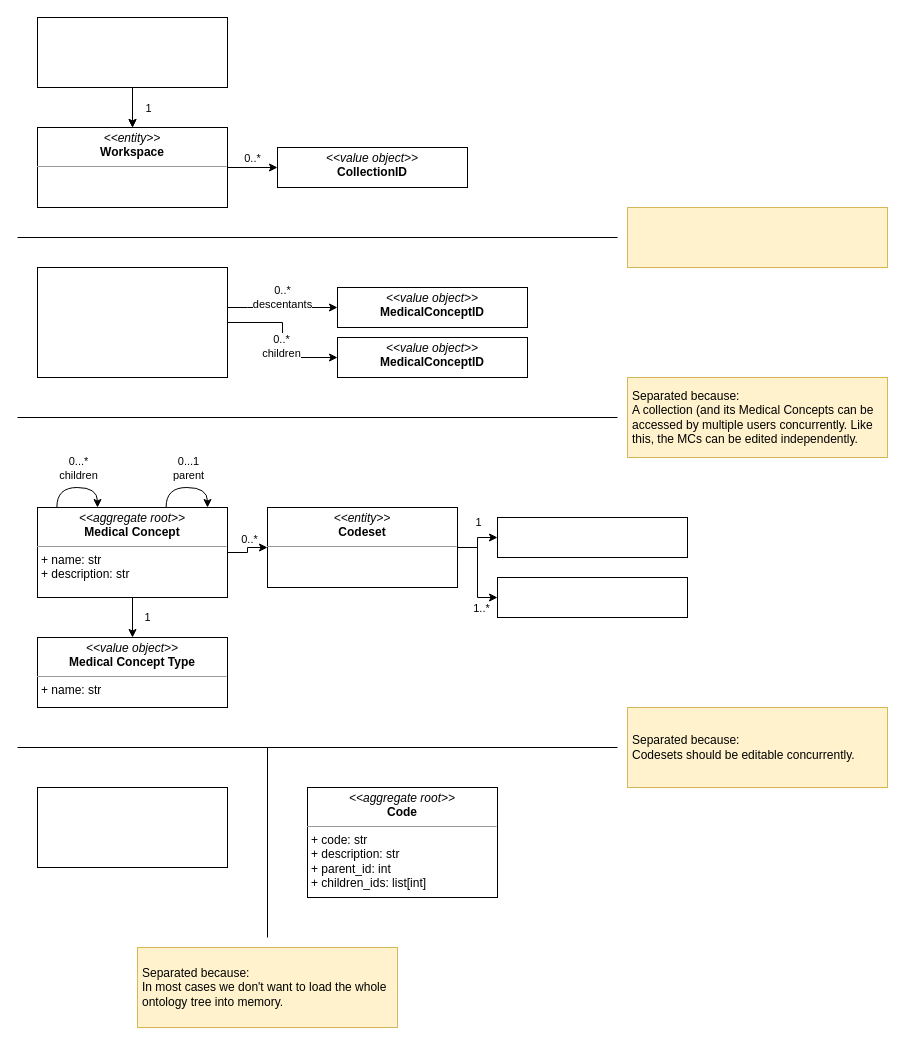
Image size: 905x1045. Some labels were removed from this diagram. Here are the shapes that lost their labels. From the top down, the centre of each, then its label:
At (x=132, y=52): "<<aggregate root>> User + cwid: str".
At (x=757, y=237): "Separated because: A collection can be accessed by multiple users concurrently.".
At (x=132, y=322): "<< aggregate root >> Collection + name: str + type: str + description: str".
At (x=592, y=537): "<<value object >> OntologyID".
At (x=592, y=597): "<<value object >> CodeID".
At (x=132, y=827): "<< a ggregate root >> Ontology + id: str + root_code _ids: CodeID".
